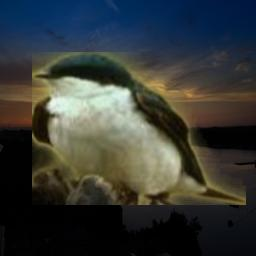Swallow: (32, 52, 246, 205)
